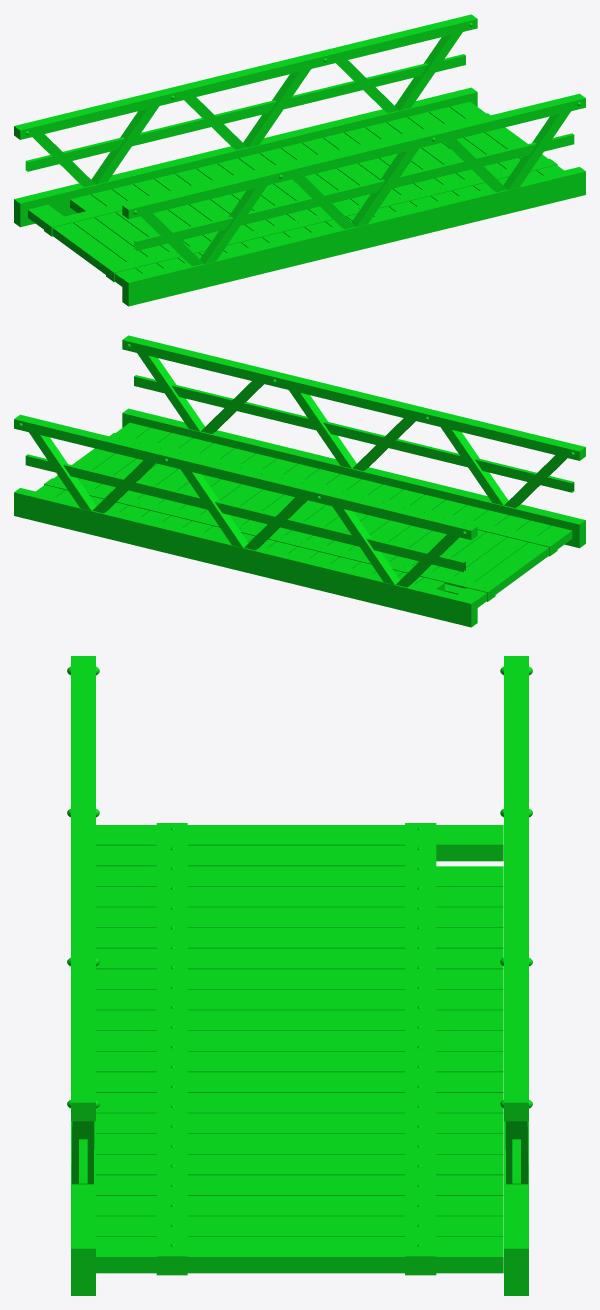
3 views of the same model, one above another, from view 1: azimuth 30°, elevation 25°; view 2: azimuth 150°, elevation 25°; view 3: azimuth 270°, elevation 25° (orthographic). The views are drawn at different scales.
Parts seen in each view (by area): view 1: Bridge.001; view 2: Bridge.001; view 3: Bridge.001.
Part boxes in pixels (x1,y1,x2,y2): Bridge.001: (14,14,585,306); Bridge.001: (14,335,585,627); Bridge.001: (67,656,532,1295).
Size of the model in its own units: 991 by 200 by 437.
